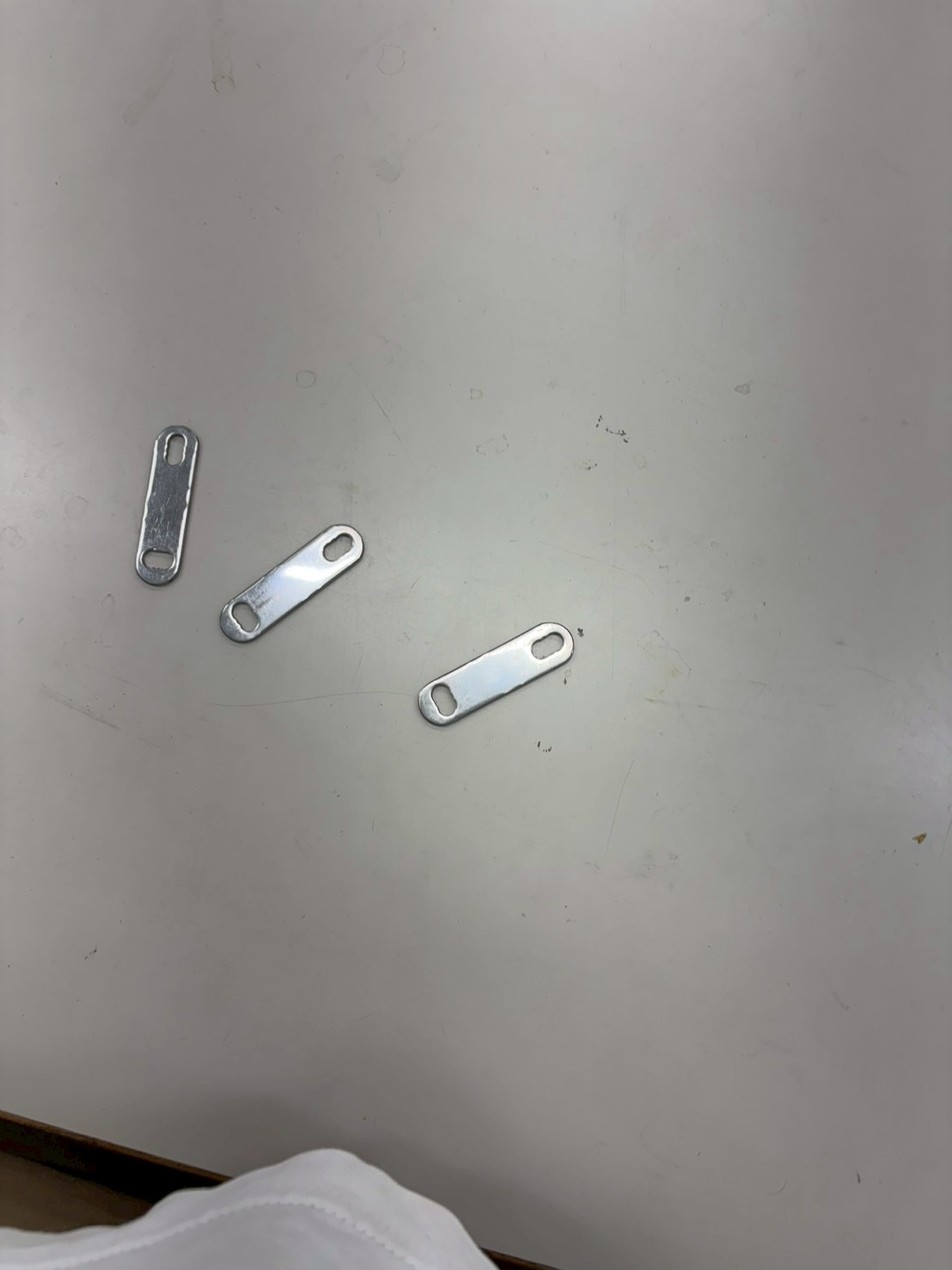Fe: (566, 608, 621, 792), (348, 508, 403, 688), (150, 419, 205, 589)
